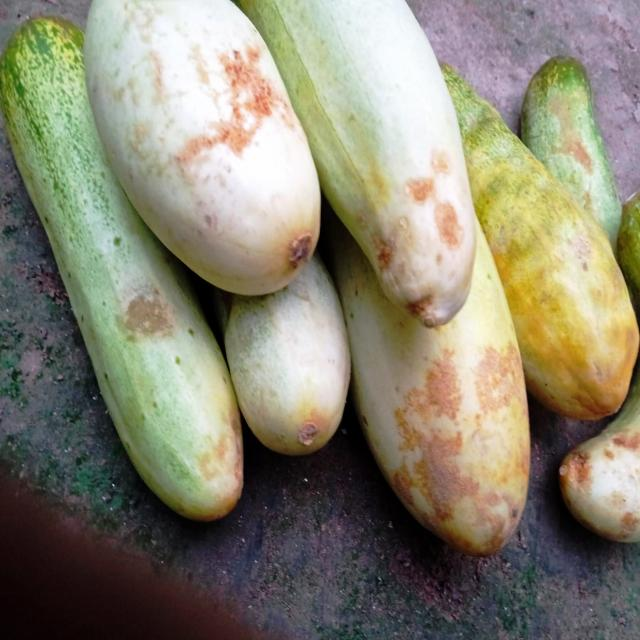Belly-Rot: (386, 339, 540, 554), (366, 144, 470, 321), (176, 39, 298, 169), (567, 424, 640, 545), (545, 90, 600, 176), (112, 281, 178, 350), (198, 410, 250, 488)
